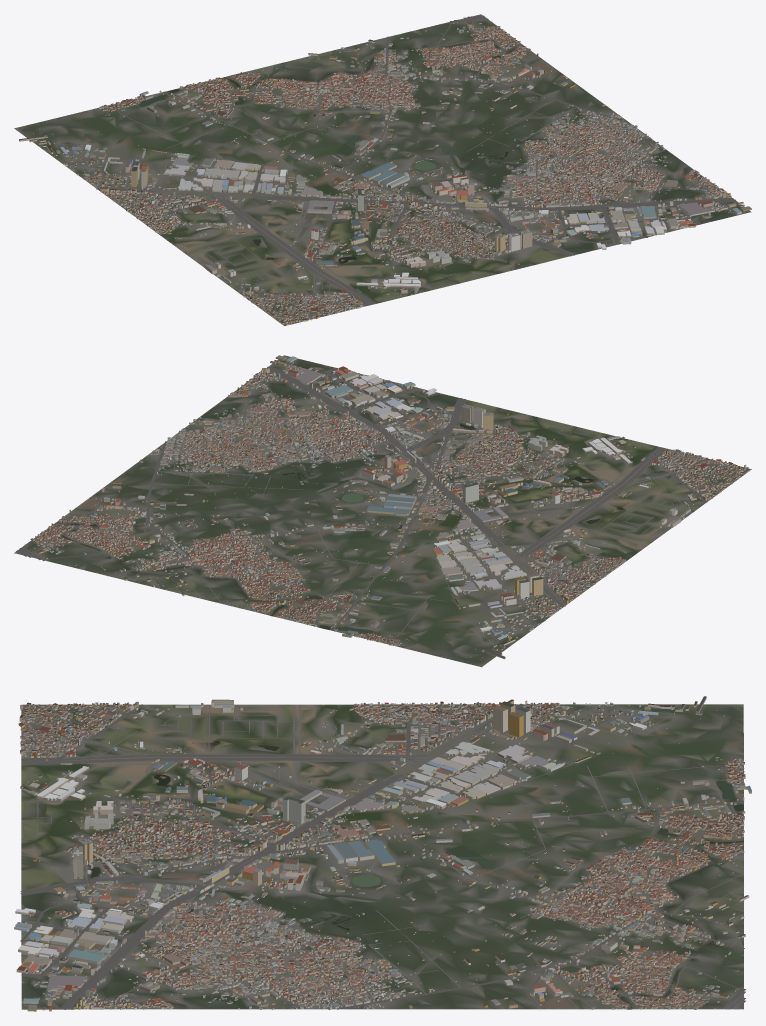
3 views of the same model, one above another, from view 1: azimuth 30°, elevation 25°; view 2: azimuth 150°, elevation 25°; view 3: azimuth 270°, elevation 25° (orthographic). The views are drawn at different scales.
Visible parts, largest first — view 1: ground, buildings, roads, water; view 2: ground, buildings, roads, water; view 3: ground, buildings, roads, water.
Boxes of the visible parts, x1,y1,x2,y2 form: ground: [14, 14, 751, 325]; buildings: [19, 21, 751, 325]; roads: [55, 15, 736, 324]; water: [138, 40, 523, 264]; ground: [14, 355, 751, 667]; buildings: [25, 355, 749, 659]; roads: [16, 366, 749, 644]; water: [57, 423, 628, 633]; ground: [21, 704, 743, 1009]; buildings: [14, 696, 751, 1011]; roads: [20, 703, 745, 1009]; water: [90, 741, 743, 1009].
Bounding box in the file's own units: 2872 × 95.91 × 2863.
